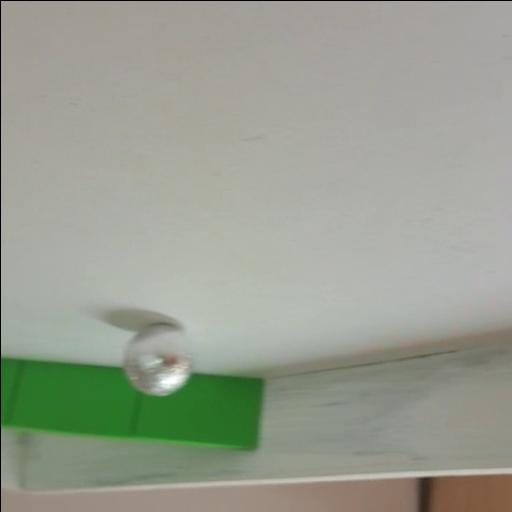alive: (124, 324, 192, 396)
